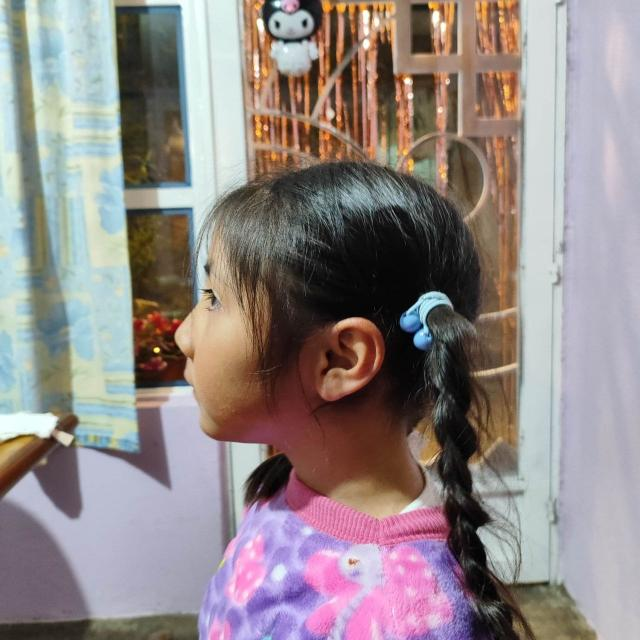ear: (316, 318, 385, 400)
